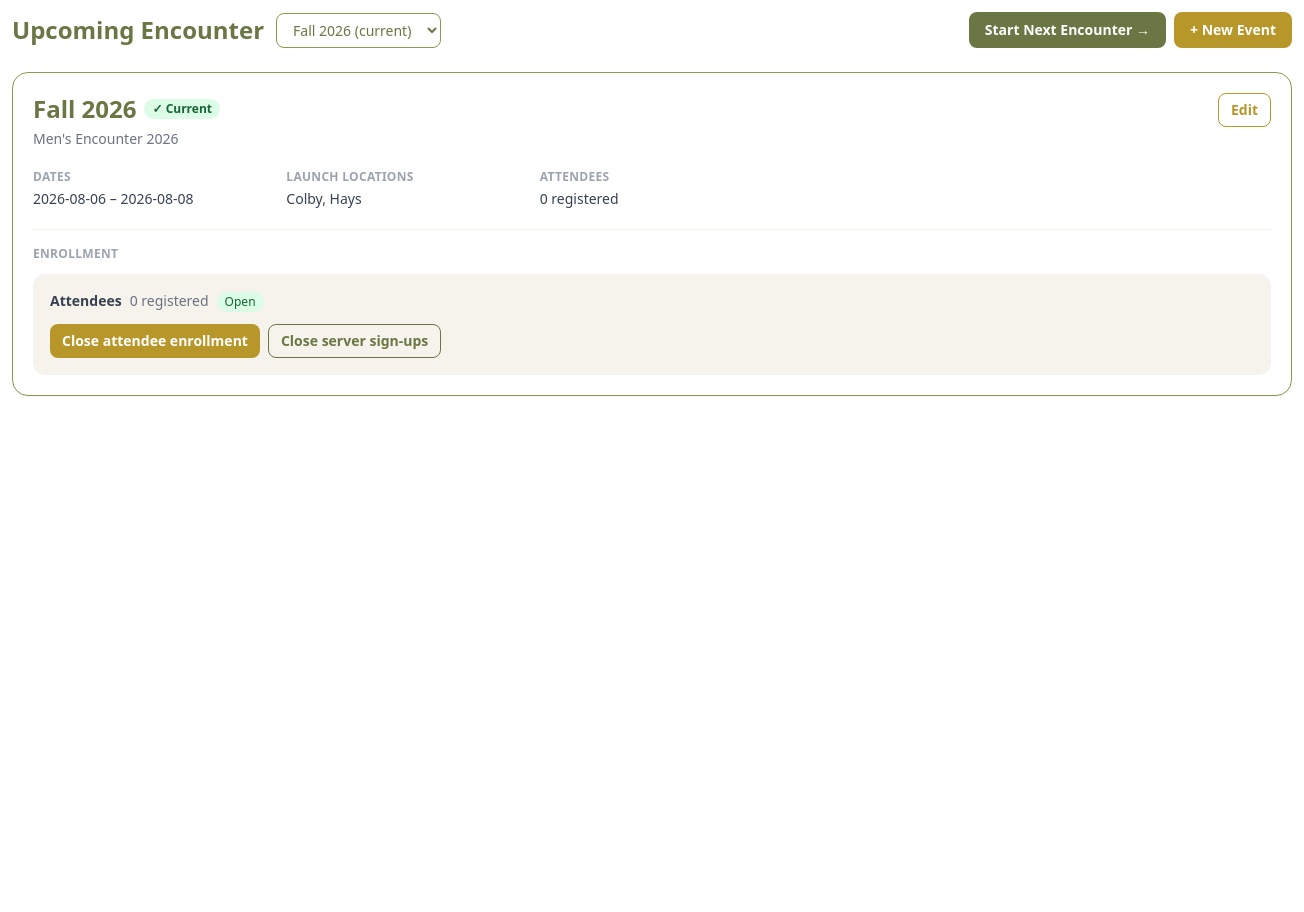
Test case: Events page › opens the edit form pre-filled when the panel Edit is clicked
This screenshot has width=1304, height=912.
Expected: the heading "Fall 2026" is shown, [33,93,136,125]
Click the button with aria-label "edit Fall 2026" at (1244, 110), box [1218,93,1271,127]
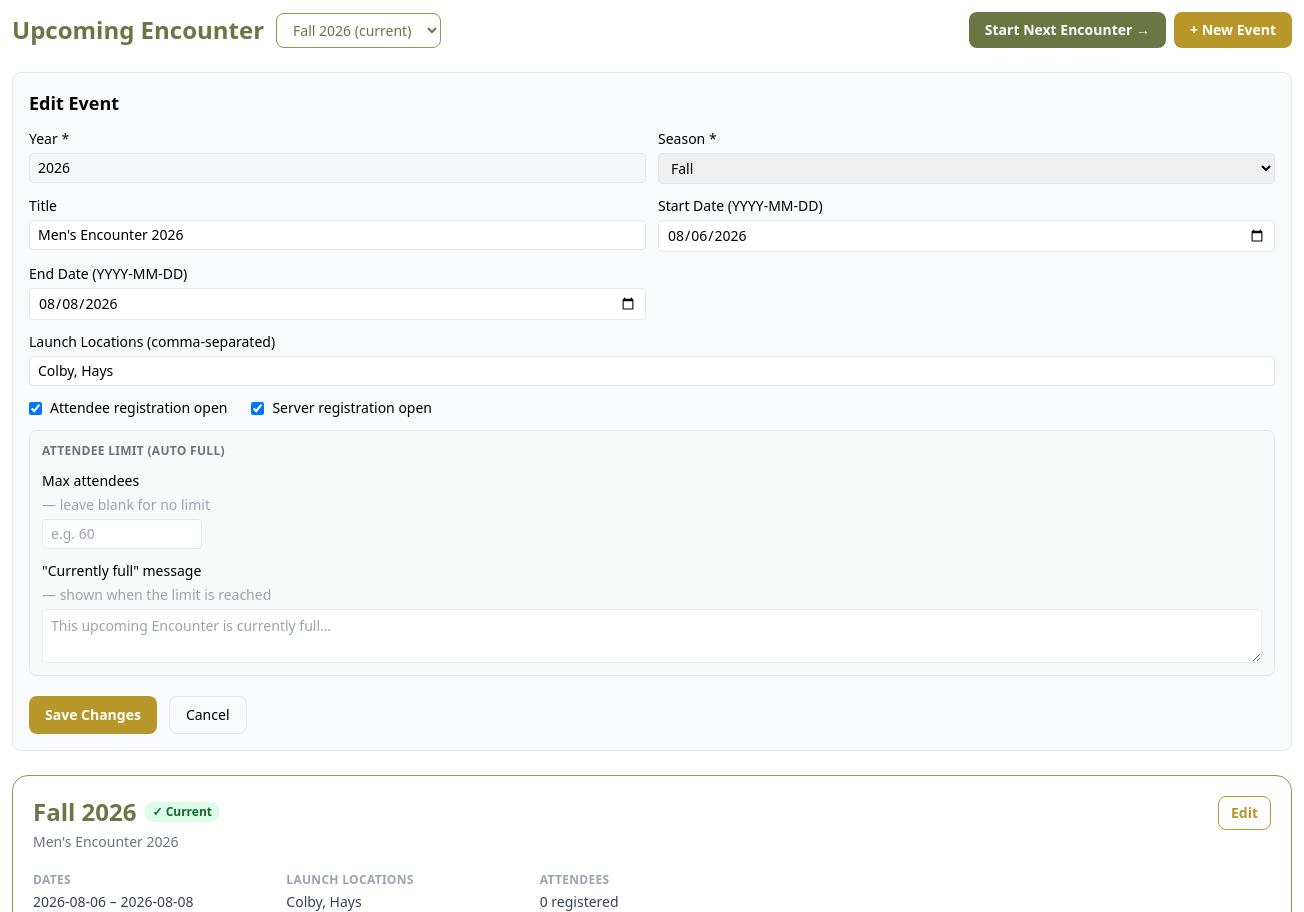
Now the form "Edit Event" is shown
Now the field labelled "Title" holds "Men's Encounter 2026", box [29,220,646,250]
